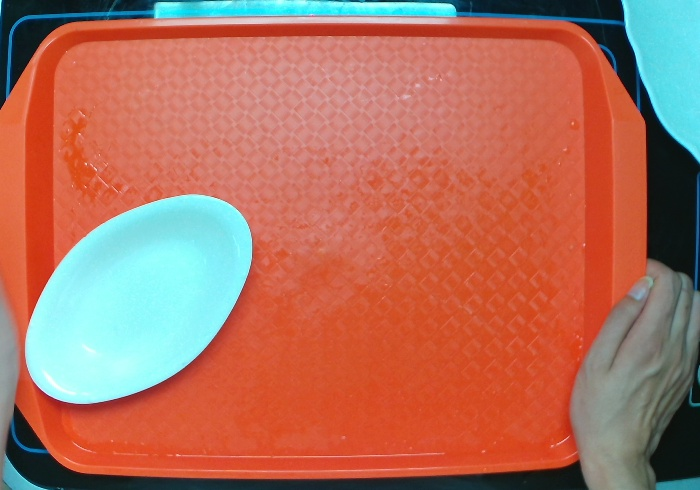RJxy-Bai_Se_Tuo_Yuan: (23, 192, 255, 406)
